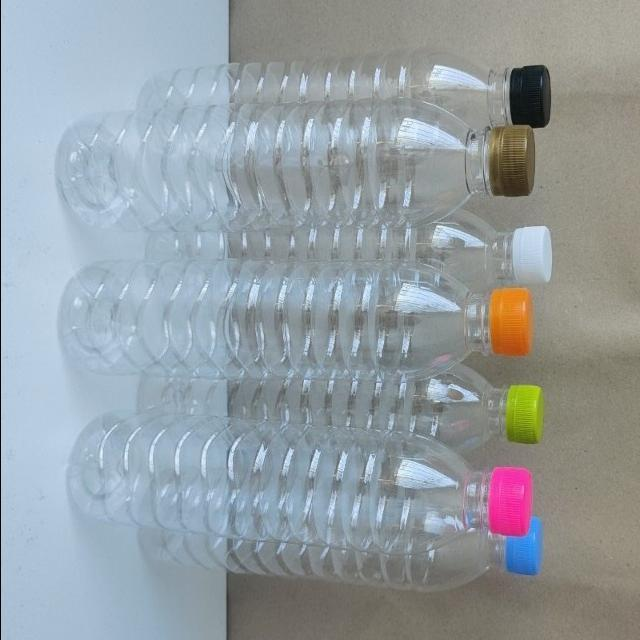PET Bottle: (44, 104, 540, 244), (56, 252, 530, 390), (61, 416, 514, 549), (112, 38, 581, 145), (126, 357, 570, 450), (144, 516, 572, 595), (448, 515, 477, 520)
